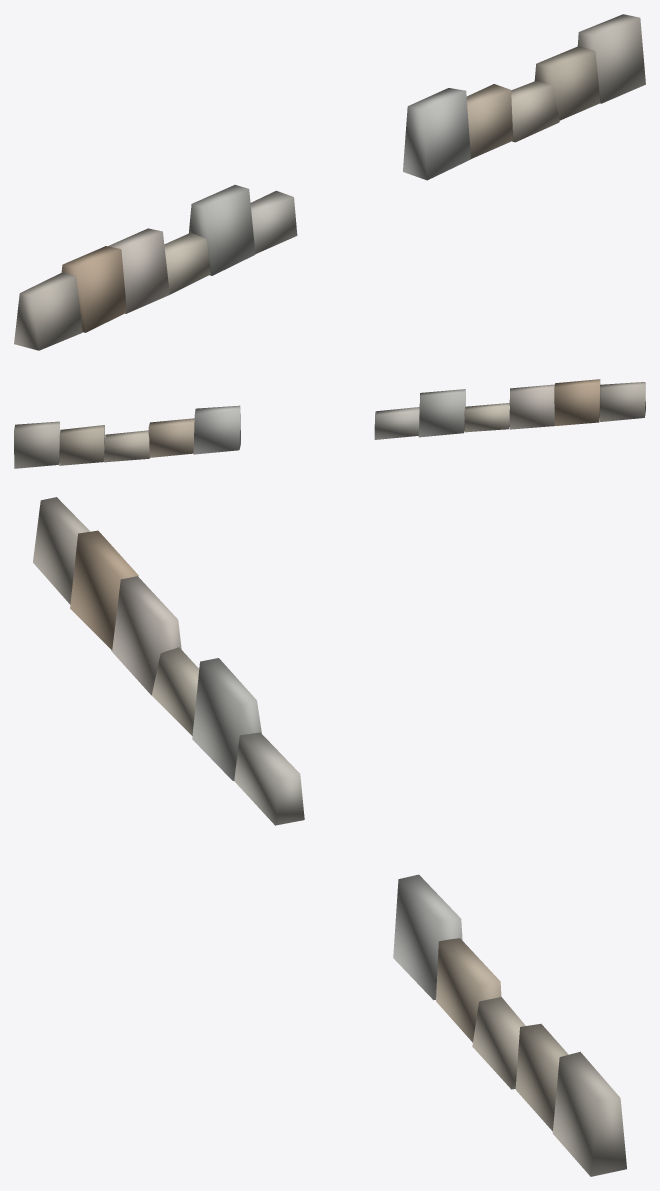
File: farm_0_22_far.glb
The picture shows the model from 3 angles, top to bottom: view 1: azimuth 30°, elevation 25°; view 2: azimuth 150°, elevation 25°; view 3: azimuth 270°, elevation 25°; orthographic projection. The views are drawn at different scales.
Parts seen in each view (by area): view 1: geometry_0; view 2: geometry_0; view 3: geometry_0.
Part boxes in pixels (x1,y1,x2,y2): geometry_0: (14,14,645,350); geometry_0: (14,379,645,468); geometry_0: (33,497,626,1176).
Size of the model in its own units: 20.18 by 3.84 by 10.44.
